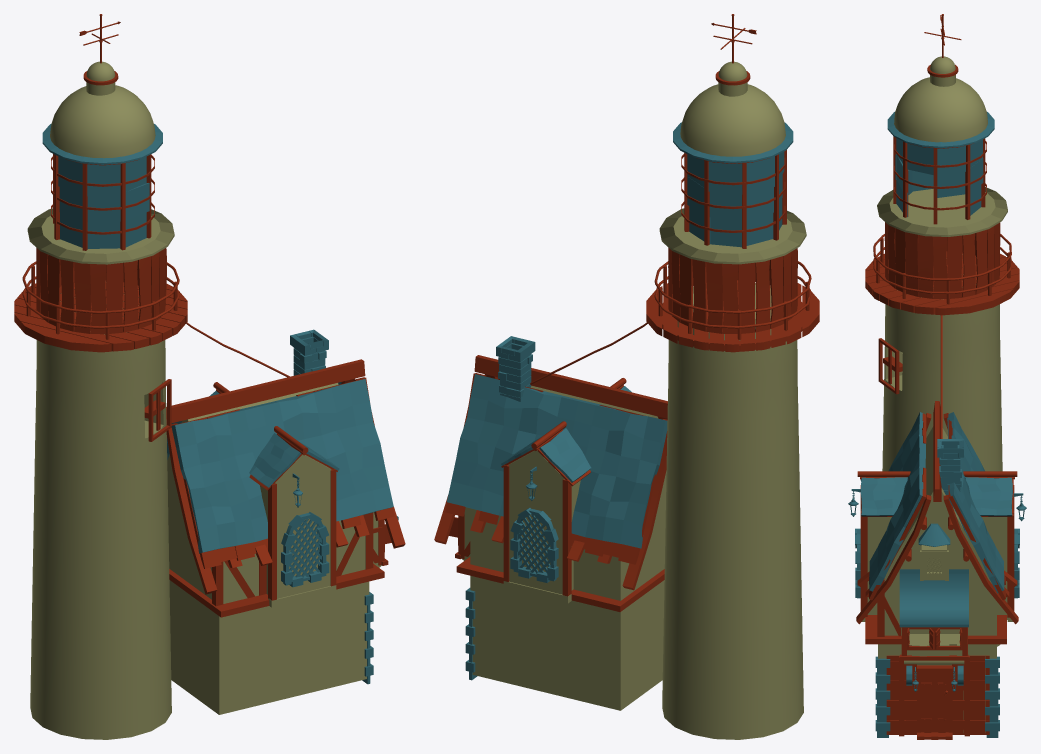
The model's file is LightHouse.FBX.
3 views of the same model, side by side, from view 1: azimuth 30°, elevation 25°; view 2: azimuth 150°, elevation 25°; view 3: azimuth 270°, elevation 25° (orthographic). The views are drawn at different scales.
Visible parts, largest first — view 1: Cylinder002, Box001, Shape059, group1, Group002, Sphere001, Group001, Cylinder004, Box009, Cylinder005, Box025, Torus004 (+5 smaller); view 2: Cylinder002, Box001, Shape060, group1, Group002, Sphere001, Group001, Cylinder004, Cylinder005, Box009, Box152, Torus004 (+3 smaller); view 3: group1, Cylinder002, Group002, Box001, Sphere001, Cylinder005, Box048, Cylinder004, Shape059, Shape060, Group001, Torus004 (+19 smaller).
Part boxes in pixels (x1,y1,x2,y2): Cylinder002: (30, 293, 171, 739); Box001: (167, 383, 369, 714); Shape059: (171, 379, 393, 553); group1: (36, 154, 394, 600); Group002: (58, 156, 373, 684); Sphere001: (50, 85, 155, 158); Group001: (260, 454, 381, 607); Cylinder004: (14, 280, 187, 352); Box009: (166, 359, 365, 424); Cylinder005: (27, 208, 174, 264); Box025: (166, 377, 405, 594); Torus004: (22, 261, 179, 339); Cylinder002: (662, 283, 803, 739); Box001: (470, 385, 666, 710); Shape060: (447, 374, 667, 548); group1: (445, 153, 797, 596); Group002: (465, 152, 784, 680); Sphere001: (680, 84, 785, 156); Group001: (462, 450, 580, 603); Cylinder004: (646, 280, 819, 352); Cylinder005: (659, 208, 806, 264); Box009: (474, 355, 667, 418); Box152: (434, 373, 667, 590); Torus004: (654, 261, 811, 340); group1: (860, 141, 1014, 739); Cylinder002: (882, 254, 1002, 646); Group002: (855, 138, 1019, 737); Box001: (878, 426, 996, 732); Sphere001: (894, 77, 987, 142); Cylinder005: (877, 187, 1007, 236); Box048: (899, 569, 968, 627); Cylinder004: (865, 251, 1019, 315); Shape059: (869, 412, 925, 591); Shape060: (947, 412, 1004, 593); Group001: (862, 517, 1012, 664); Torus004: (873, 234, 1011, 304).
Size of the model in its own units: 112 by 214 by 55.53.
